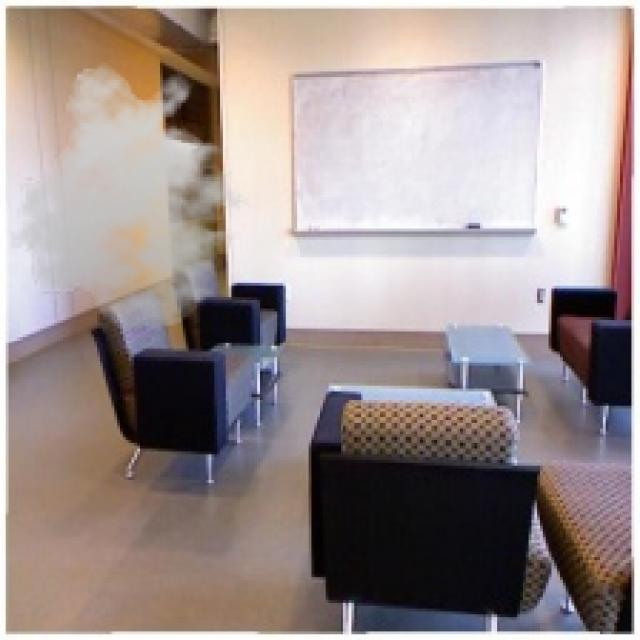Smoke: (3, 62, 260, 332)
